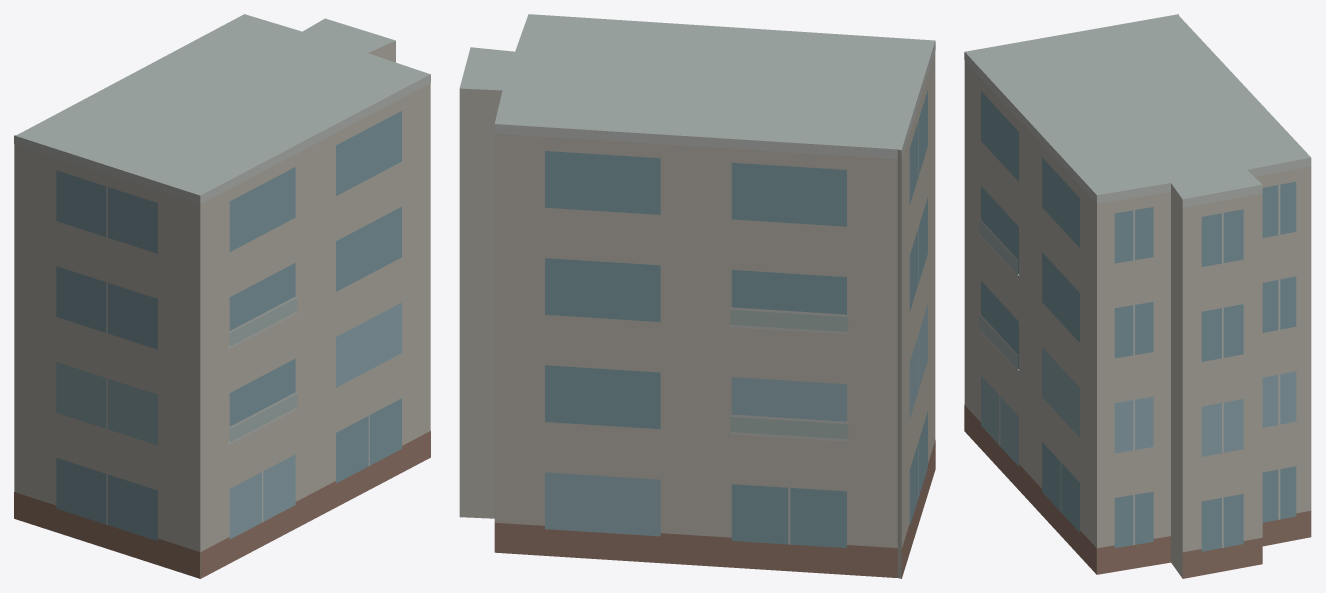
Rendered from survey-upis-32849175.glb.
3 views of the same model, side by side, from view 1: azimuth 30°, elevation 25°; view 2: azimuth 150°, elevation 25°; view 3: azimuth 270°, elevation 25° (orthographic). The views are drawn at different scales.
Visible parts, largest first — view 1: survey-upis-32849175.tmp; view 2: survey-upis-32849175.tmp; view 3: survey-upis-32849175.tmp.
Boxes of the visible parts, <box> form: survey-upis-32849175.tmp: <box>14,14,430,578</box>; survey-upis-32849175.tmp: <box>459,14,935,578</box>; survey-upis-32849175.tmp: <box>964,14,1311,578</box>.
Bounding box in the file's own units: 11.32 × 10.8 × 8.95.
